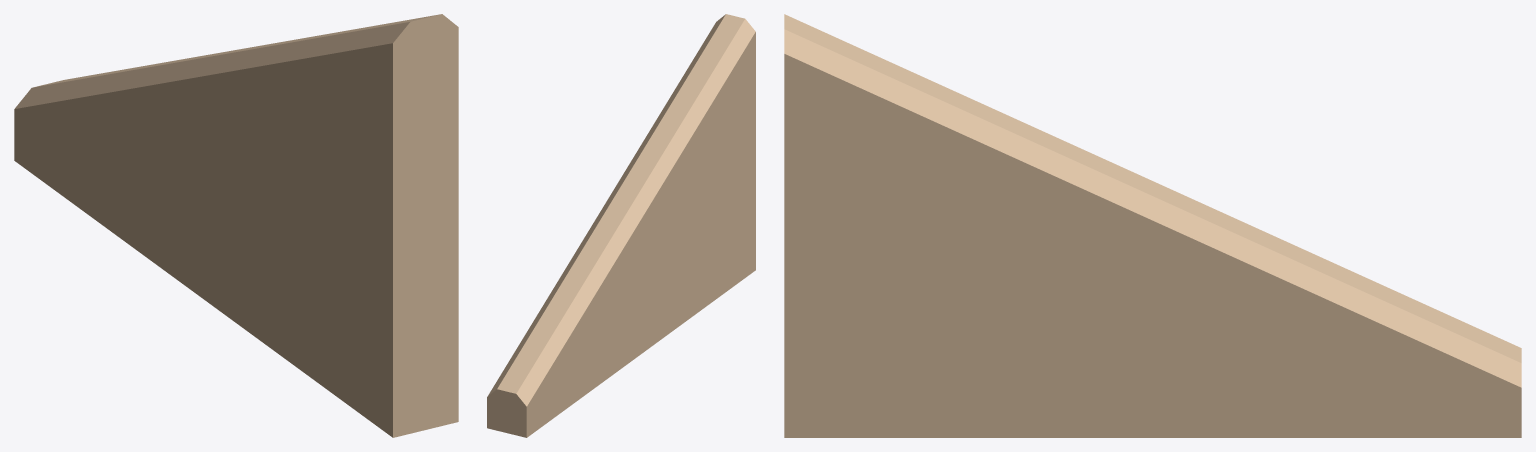
The model's file is Stairs_Coping_Ramp_Straight.fbx.
3 renders of one model, left to right at view 1: azimuth 30°, elevation 25°; view 2: azimuth 150°, elevation 25°; view 3: azimuth 270°, elevation 25°, orthographic. The views are drawn at different scales.
Parts seen in each view (by area): view 1: object1; view 2: object1; view 3: object1.
Boxes of the visible parts, x1,y1,x2,y2 form: object1: [14, 14, 458, 437]; object1: [487, 14, 755, 437]; object1: [784, 14, 1521, 437].
Bounding box in the file's own units: 0.2 × 1.2 × 2.
